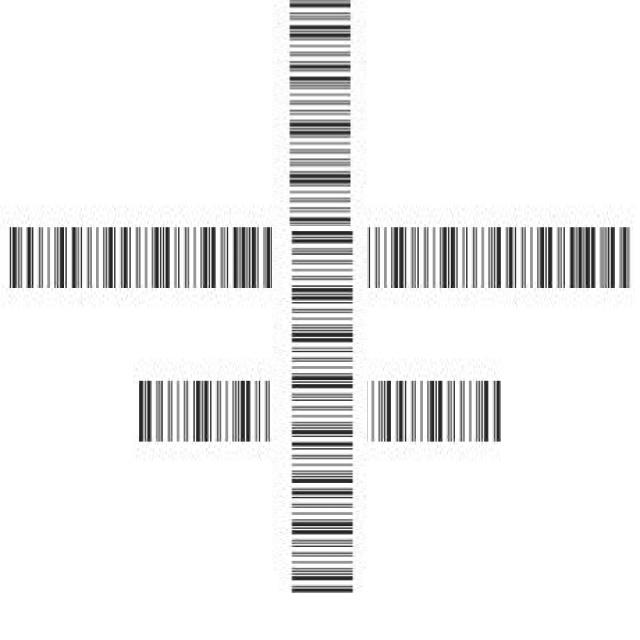Barkod: (139, 77, 500, 438), (206, 298, 434, 527)
